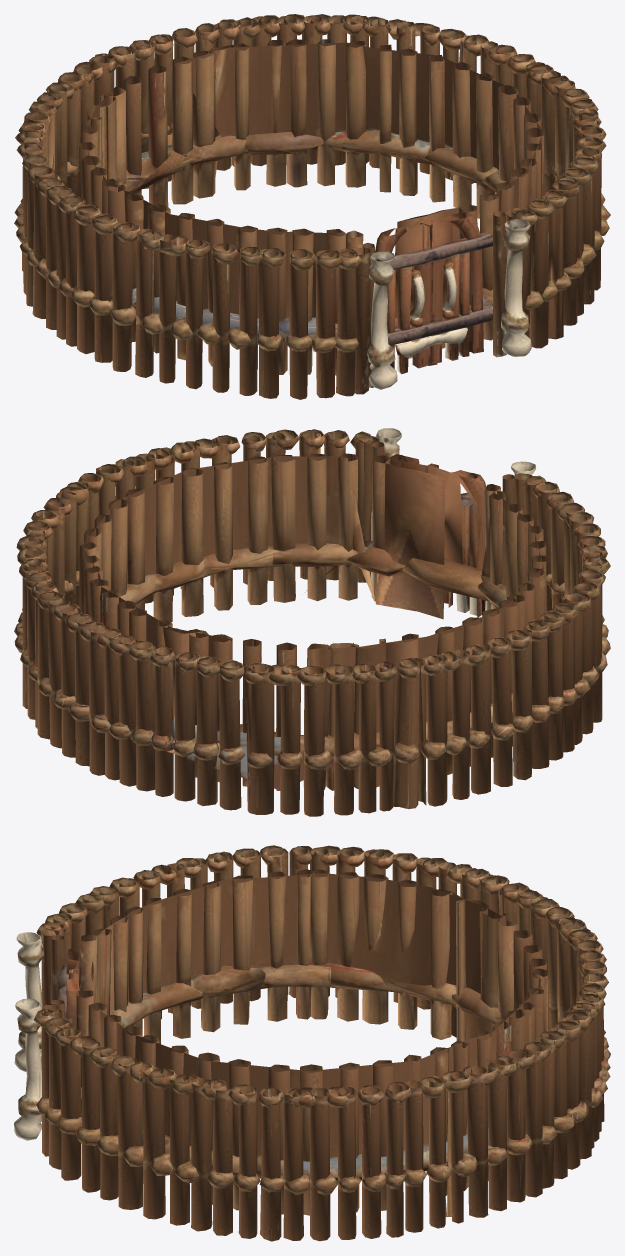
The model's file is salon-de-guerra_e1.glb.
3 renders of one model, top to bottom at view 1: azimuth 30°, elevation 25°; view 2: azimuth 150°, elevation 25°; view 3: azimuth 270°, elevation 25°, orthographic.
Bounding box in the file's own units: 10.74 × 2.85 × 10.61.
Materials: 1 (1 with a texture image).
